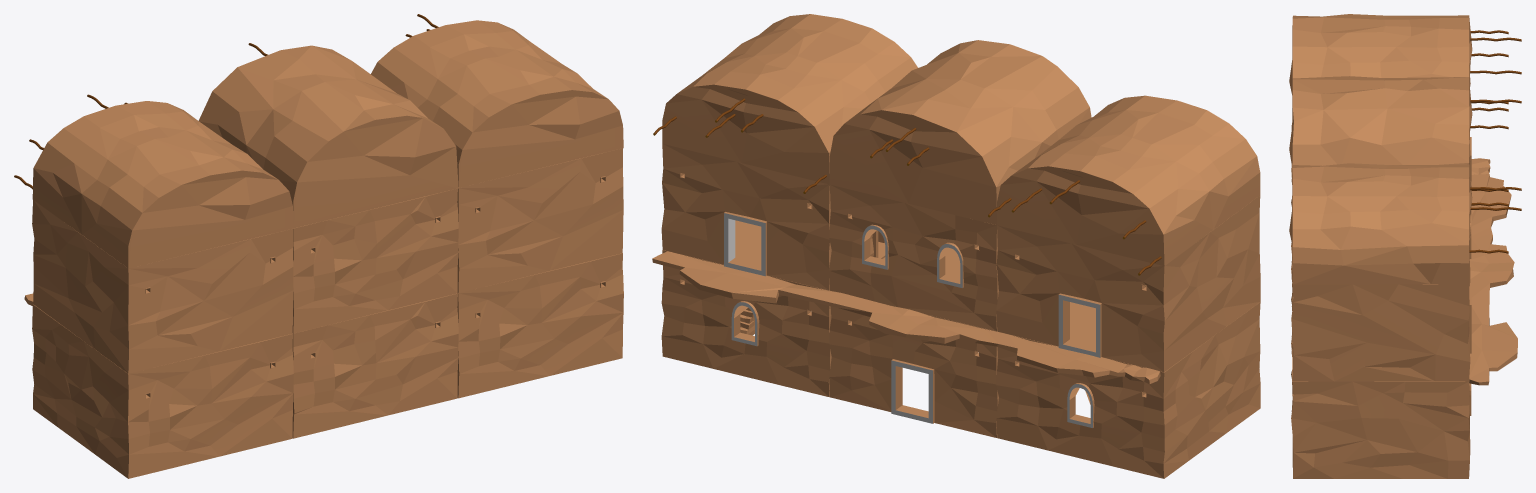
File: Tunusia3_colored_test.fbx
3 views of the same model, side by side, from view 1: azimuth 30°, elevation 25°; view 2: azimuth 150°, elevation 25°; view 3: azimuth 270°, elevation 25° (orthographic). The views are drawn at different scales.
Parts seen in each view (by area): view 1: Tunisia_v3; view 2: Tunisia_v3; view 3: Tunisia_v3.
Boxes of the visible parts, <box> form: Tunisia_v3: <box>14,14,623,478</box>; Tunisia_v3: <box>652,14,1260,478</box>; Tunisia_v3: <box>1289,14,1521,478</box>.
Size of the model in its own units: 2954 by 1708 by 1289.
Materials: 1 (1 with a texture image).
